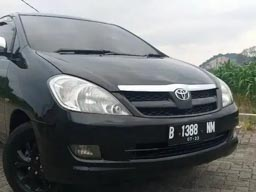plat: (169, 120, 216, 145)
